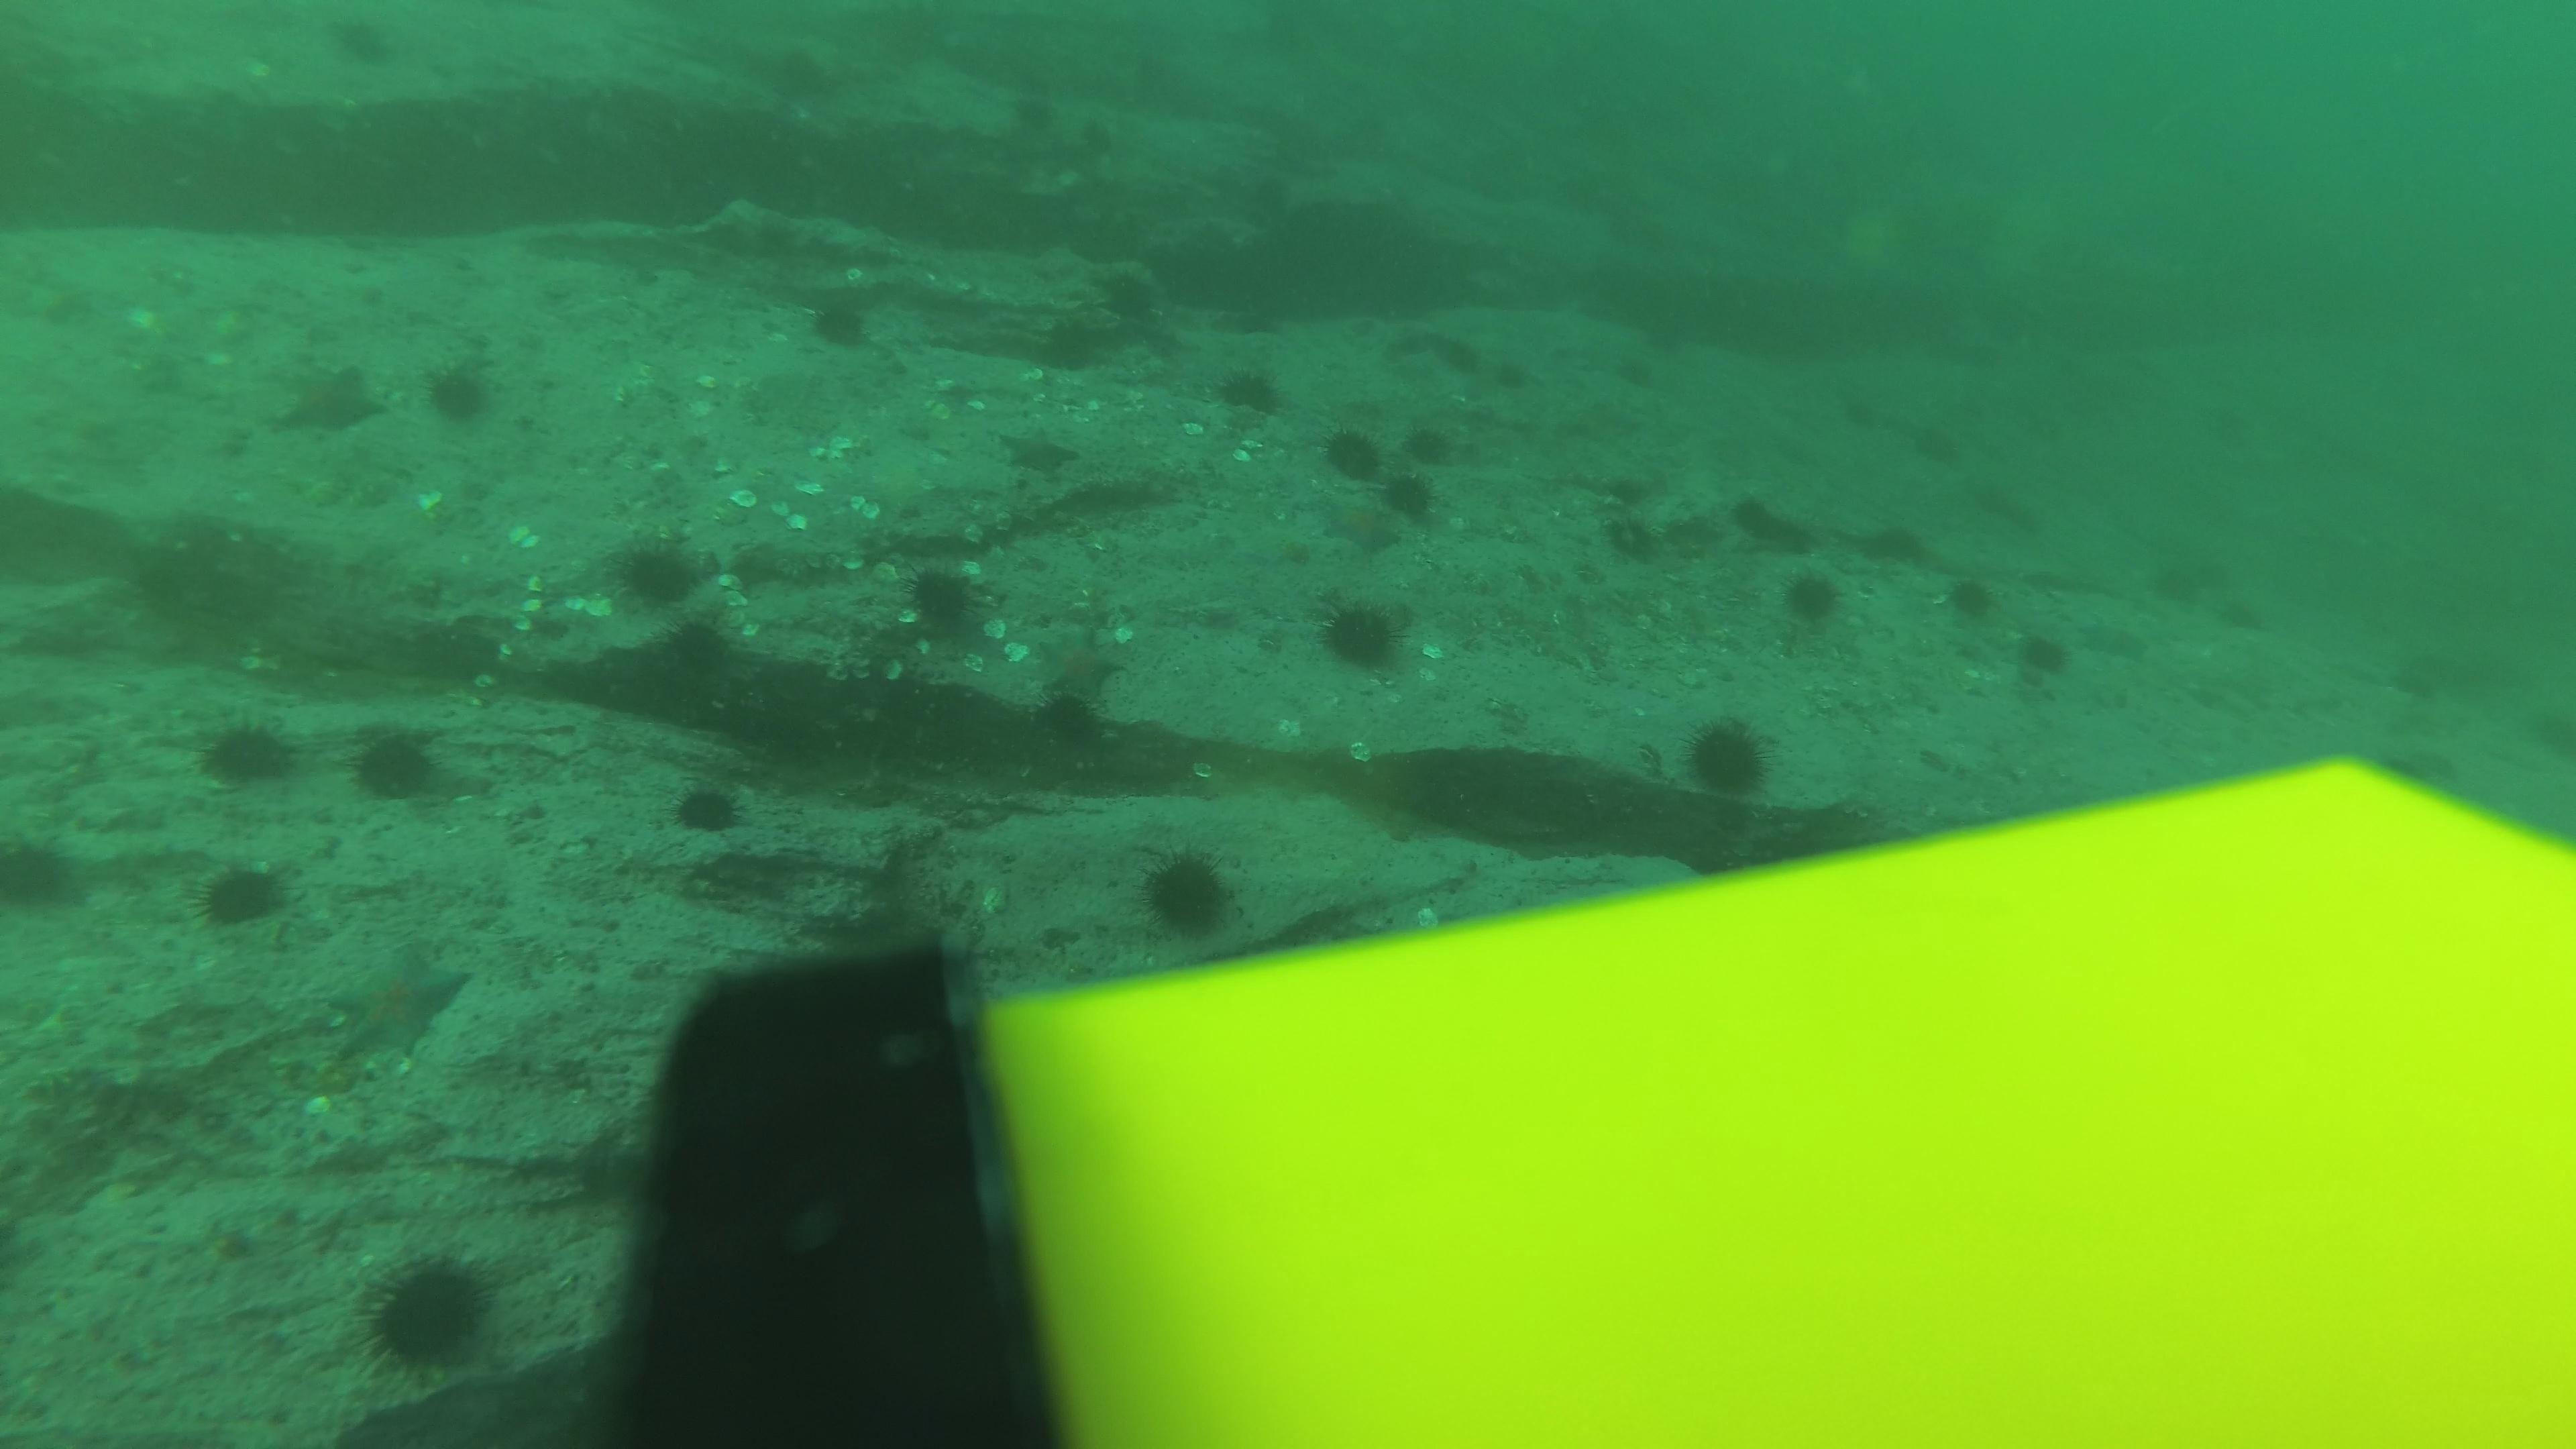echinus: (126, 513, 299, 658), (352, 1247, 499, 1376), (1131, 844, 1246, 943), (341, 718, 458, 812), (598, 527, 717, 619), (644, 598, 763, 690), (892, 556, 1001, 655), (1675, 711, 1780, 805), (191, 709, 303, 794), (1311, 591, 1415, 679), (189, 855, 297, 939), (0, 826, 88, 922), (662, 768, 755, 840), (796, 281, 885, 356), (419, 352, 502, 430), (1030, 304, 1120, 375), (1031, 683, 1113, 755), (1773, 563, 1851, 633), (1207, 357, 1288, 421), (1092, 260, 1162, 326), (2008, 625, 2075, 688), (2215, 580, 2282, 644), (2143, 557, 2210, 619), (2509, 706, 2576, 768), (1982, 479, 2049, 541), (1318, 419, 1384, 481), (2385, 637, 2450, 699), (1936, 568, 2001, 628), (1914, 425, 1974, 472), (1842, 393, 1902, 441), (1628, 320, 1688, 368), (1865, 522, 1925, 570), (1244, 166, 1302, 214), (1606, 517, 1665, 564), (1380, 472, 1440, 518), (1723, 494, 1783, 540), (1003, 87, 1063, 133), (1069, 110, 1129, 156), (1606, 347, 1667, 393), (1599, 467, 1660, 513), (334, 18, 395, 64), (1401, 425, 1460, 471), (1495, 359, 1543, 393), (1442, 336, 1490, 370)
starfish: (322, 939, 476, 1065), (271, 357, 389, 441), (1035, 626, 1132, 702), (1311, 488, 1412, 559), (994, 421, 1083, 478)
